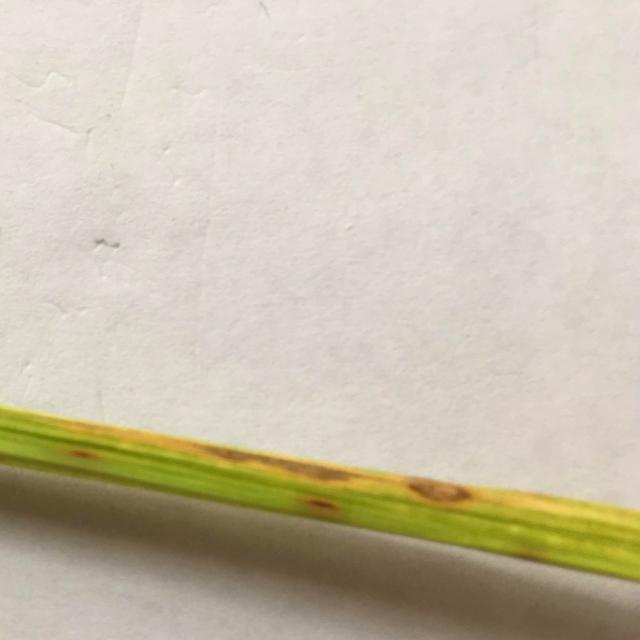Blast: (404, 482, 472, 508), (272, 462, 326, 482), (298, 494, 340, 516), (204, 451, 252, 466)
